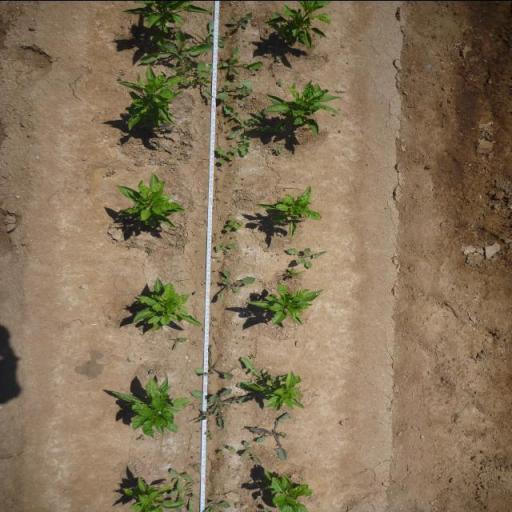plant: (261, 78, 347, 138), (110, 374, 191, 436), (115, 67, 185, 132), (115, 171, 188, 230), (130, 276, 203, 333), (254, 184, 324, 238), (259, 0, 334, 50), (246, 282, 327, 328), (246, 367, 312, 413), (260, 465, 319, 512), (120, 0, 207, 31), (121, 475, 169, 512)
weed: (220, 99, 277, 156), (140, 30, 214, 72), (188, 388, 256, 426), (251, 411, 297, 461), (192, 342, 235, 380), (216, 45, 266, 76), (236, 357, 286, 384), (218, 267, 256, 301), (192, 18, 230, 46), (185, 62, 215, 95), (286, 245, 328, 267), (217, 78, 255, 100), (170, 467, 195, 500), (238, 441, 264, 465), (214, 144, 238, 165), (227, 10, 254, 27), (204, 497, 231, 512), (224, 216, 246, 233), (167, 336, 189, 350), (215, 240, 237, 254), (186, 493, 201, 512), (267, 53, 283, 70), (288, 266, 306, 278), (159, 122, 175, 132), (204, 429, 214, 439), (106, 165, 116, 175), (274, 146, 284, 155), (226, 444, 237, 452), (258, 506, 272, 512), (144, 246, 154, 254), (275, 77, 284, 85), (248, 352, 258, 359), (148, 367, 156, 375), (136, 434, 144, 441), (210, 316, 221, 321), (189, 462, 198, 468), (114, 74, 123, 80), (217, 449, 224, 455), (137, 324, 144, 330), (106, 314, 112, 320), (244, 98, 250, 104), (126, 358, 132, 362), (201, 98, 206, 102), (217, 259, 223, 262), (210, 281, 216, 284), (176, 157, 182, 160), (220, 234, 225, 236), (213, 269, 218, 271), (214, 232, 218, 234)
